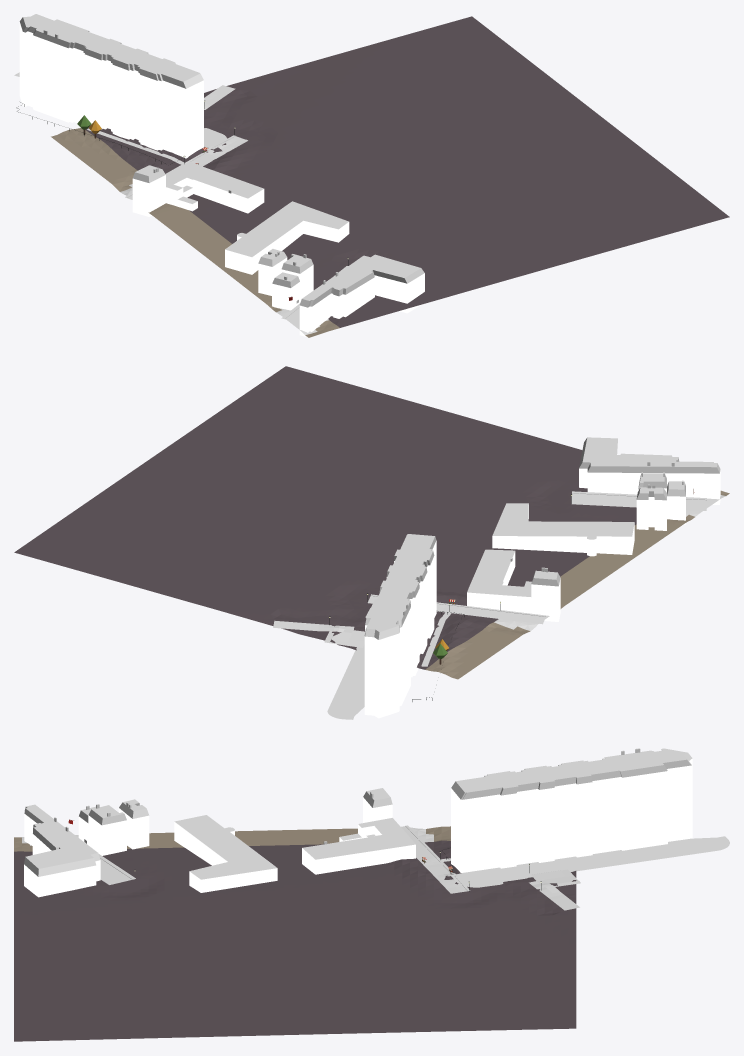
File: zone_J1.glb
3 renders of one model, top to bottom at view 1: azimuth 30°, elevation 25°; view 2: azimuth 150°, elevation 25°; view 3: azimuth 270°, elevation 25°, orthographic. The views are drawn at different scales.
Visible parts, largest first — view 1: zone_J1_terrain, zone_J1_batiments, zone_J1_sol_NOCOL; view 2: zone_J1_terrain, zone_J1_batiments, zone_J1_sol_NOCOL; view 3: zone_J1_terrain, zone_J1_batiments, zone_J1_sol_NOCOL.
Boxes of the visible parts, x1,y1,x2,y2 form: zone_J1_terrain: [51, 16, 729, 337]; zone_J1_batiments: [19, 14, 424, 337]; zone_J1_sol_NOCOL: [14, 72, 347, 322]; zone_J1_terrain: [14, 366, 729, 679]; zone_J1_batiments: [364, 437, 720, 718]; zone_J1_sol_NOCOL: [273, 491, 706, 719]; zone_J1_terrain: [14, 826, 576, 1041]; zone_J1_batiments: [24, 748, 692, 897]; zone_J1_sol_NOCOL: [98, 825, 729, 910].
Bounding box in the file's own units: 204 × 43.91 × 271.
